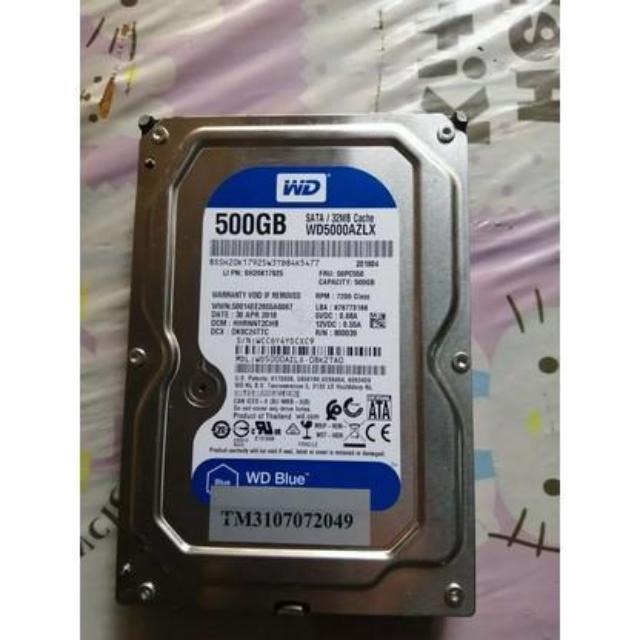DISK: (135, 110, 467, 619)
